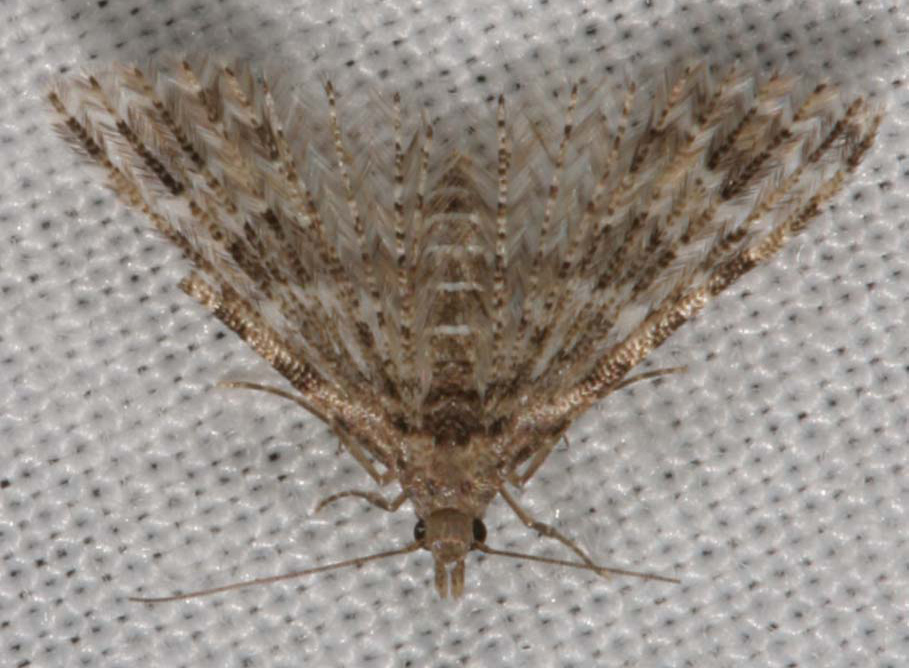Alucitidae: (36, 50, 886, 605)
moth: (38, 52, 888, 607)
